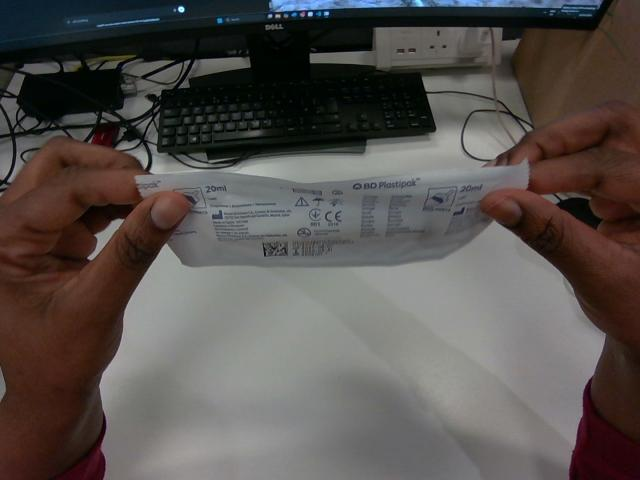syringe: (136, 162, 528, 266)
